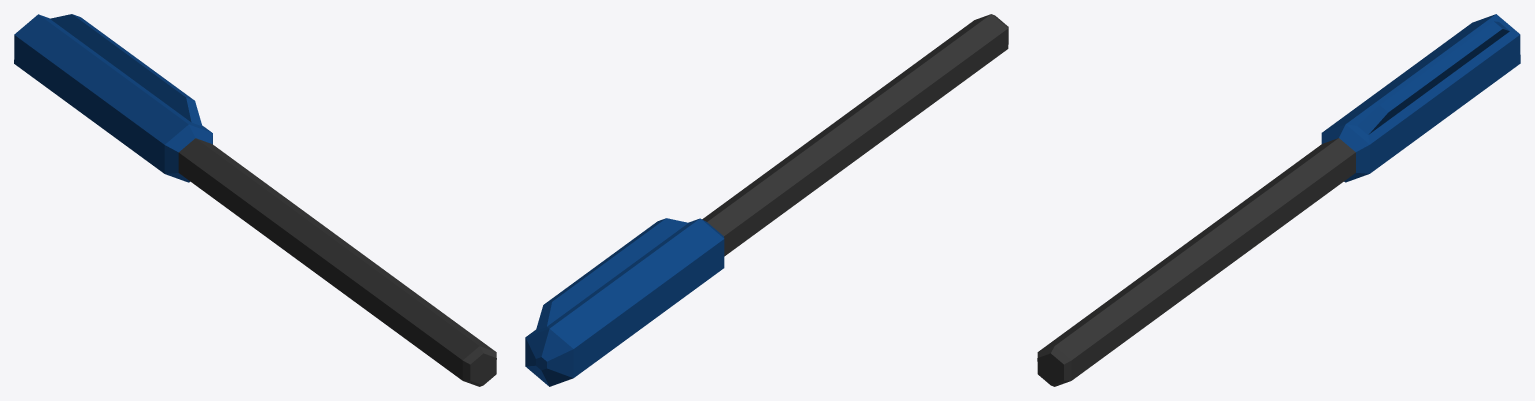
The model's file is PenV1Blue.fbx.
3 renders of one model, left to right at view 1: azimuth 30°, elevation 25°; view 2: azimuth 150°, elevation 25°; view 3: azimuth 330°, elevation 25°, orthographic.
Parts seen in each view (by area): view 1: PenV1Blue; view 2: PenV1Blue; view 3: PenV1Blue.
Part boxes in pixels (left/top/right/bottom): PenV1Blue: left=14, top=14, right=496, bottom=386; PenV1Blue: left=525, top=14, right=1008, bottom=386; PenV1Blue: left=1037, top=14, right=1520, bottom=386.
Bounding box in the file's own units: 0.6611 × 0.8859 × 10.7.
